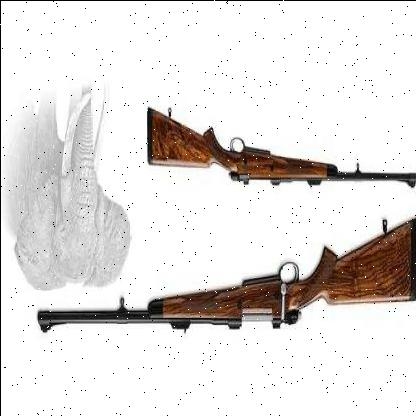rifle: (29, 203, 416, 370), (140, 73, 416, 228)
